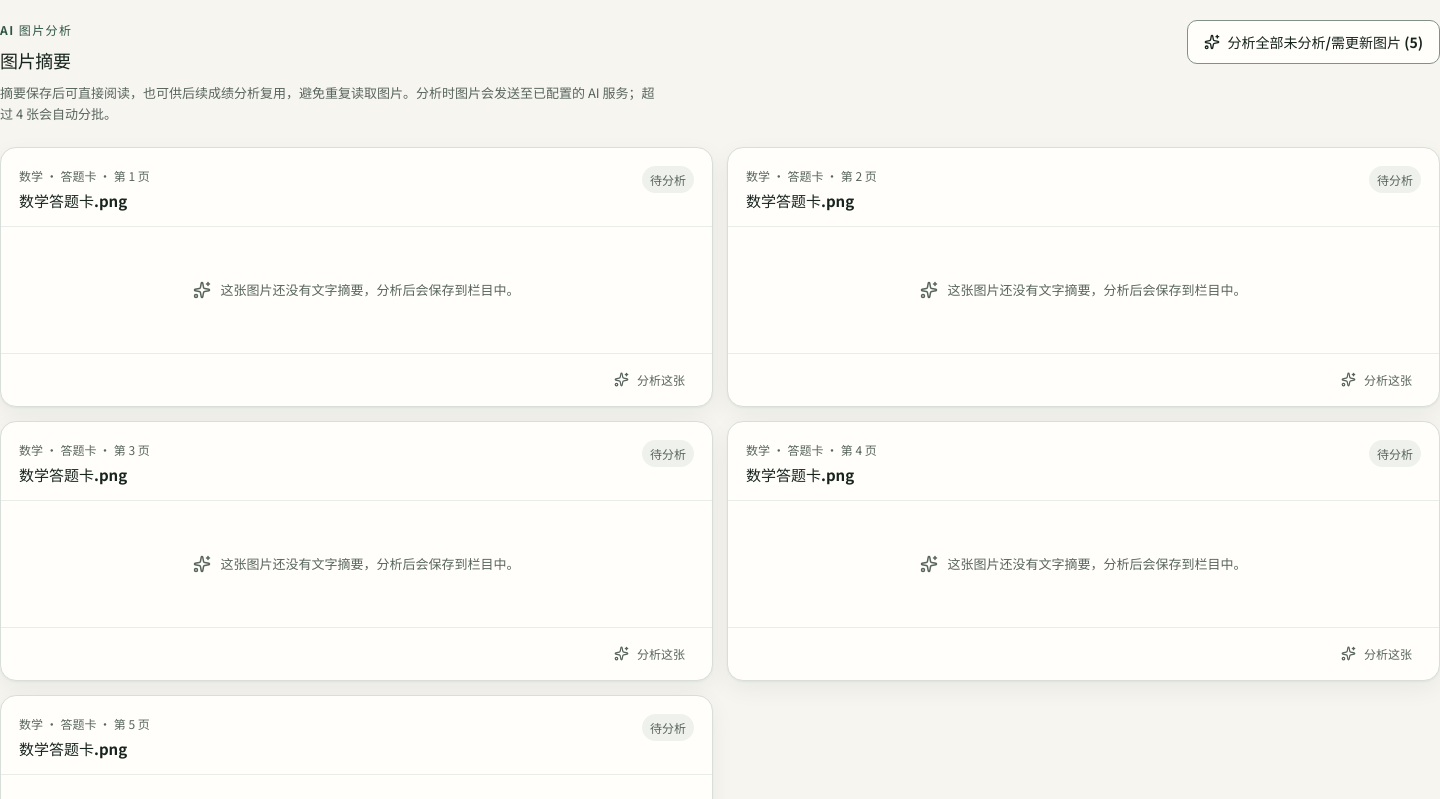
AiImageAnalysisPanel › stops later batches after a provider stop error and marks unrequested images failed
The image size is (1440, 799).
Click the button "分析全部未分析/需更新图片 (5)" at (1313, 42), box [1186,20,1439,64]
(page scrolled)
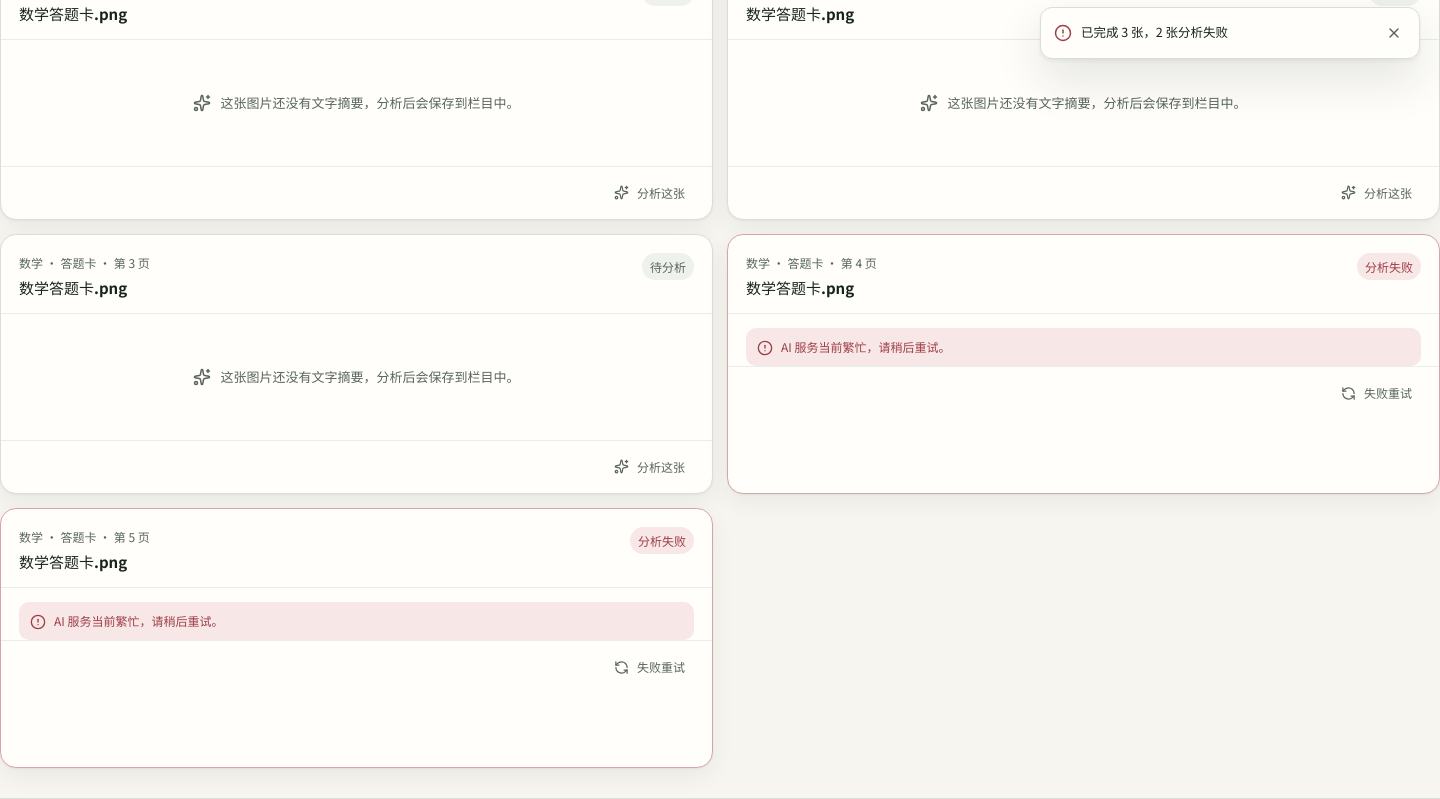
Expected: the text "分析失败" is shown 2 times, [1357,253,1421,280]; [630,527,694,554]
Expected: the text "AI 服务当前繁忙，请稍后重试。" below "数学 · 答题卡 · 第 5 页" is shown, [54,612,224,629]
